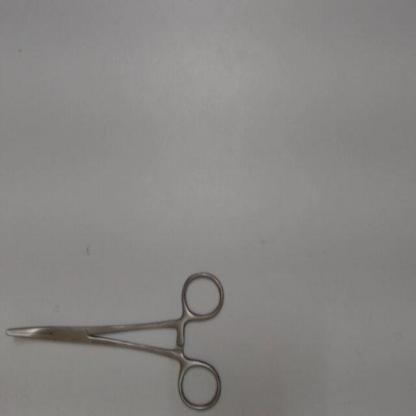Crile Artery Forceps: (3, 265, 230, 414)
